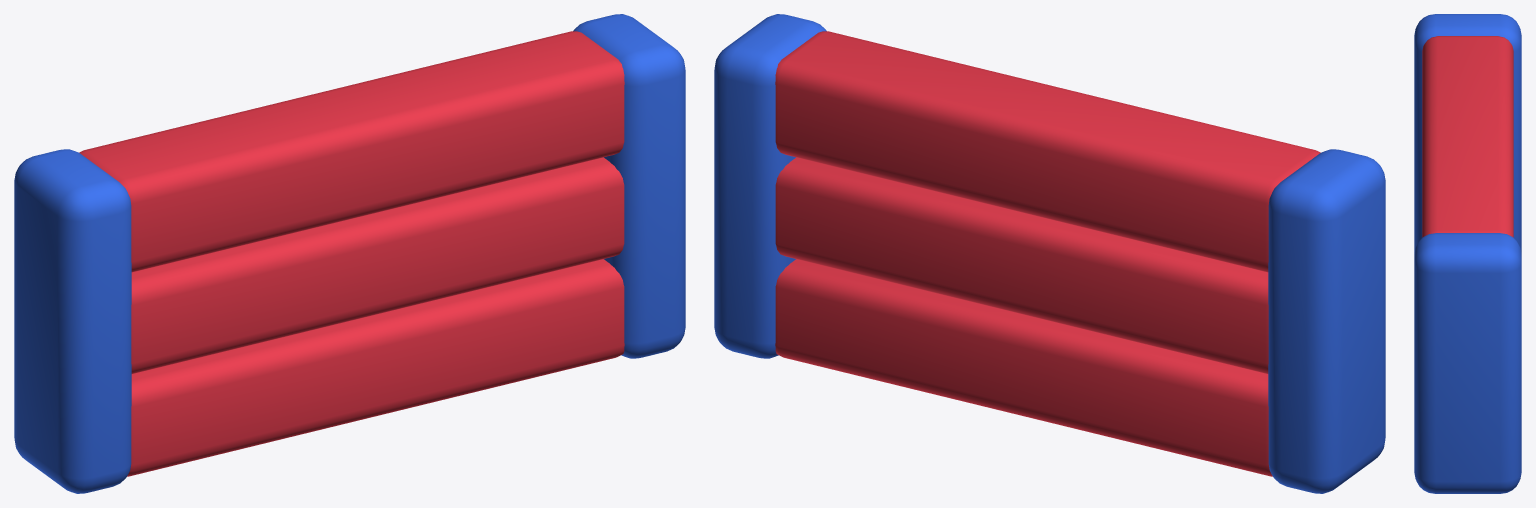
File: SD_PaddedBarrier.fbx
The picture shows the model from 3 angles, left to right: view 1: azimuth 30°, elevation 25°; view 2: azimuth 150°, elevation 25°; view 3: azimuth 270°, elevation 25°; orthographic projection. The views are drawn at different scales.
Visible parts, largest first — view 1: PaddedBarrier; view 2: PaddedBarrier; view 3: PaddedBarrier.
Part boxes in pixels (left/top/right/bottom): PaddedBarrier: left=14, top=14, right=685, bottom=493; PaddedBarrier: left=714, top=14, right=1385, bottom=493; PaddedBarrier: left=1414, top=14, right=1521, bottom=493.
Size of the model in its own units: 3 by 1.4 by 0.55.
